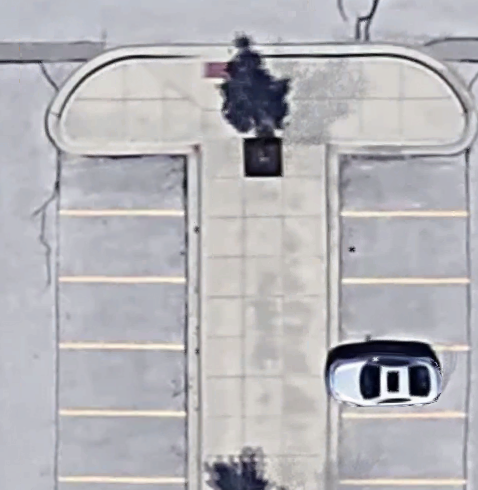Occupied: (339, 349, 470, 415)
Vacant: (338, 281, 470, 350), (59, 213, 192, 281), (334, 150, 470, 216), (338, 415, 470, 483), (337, 215, 469, 282), (59, 413, 190, 480), (59, 280, 191, 346), (60, 347, 190, 413), (59, 151, 192, 212)
